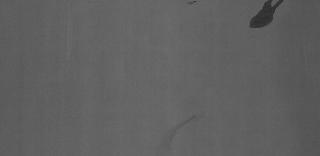oil spot: (246, 0, 288, 30), (186, 2, 197, 6)
water spot: (156, 112, 200, 156)
